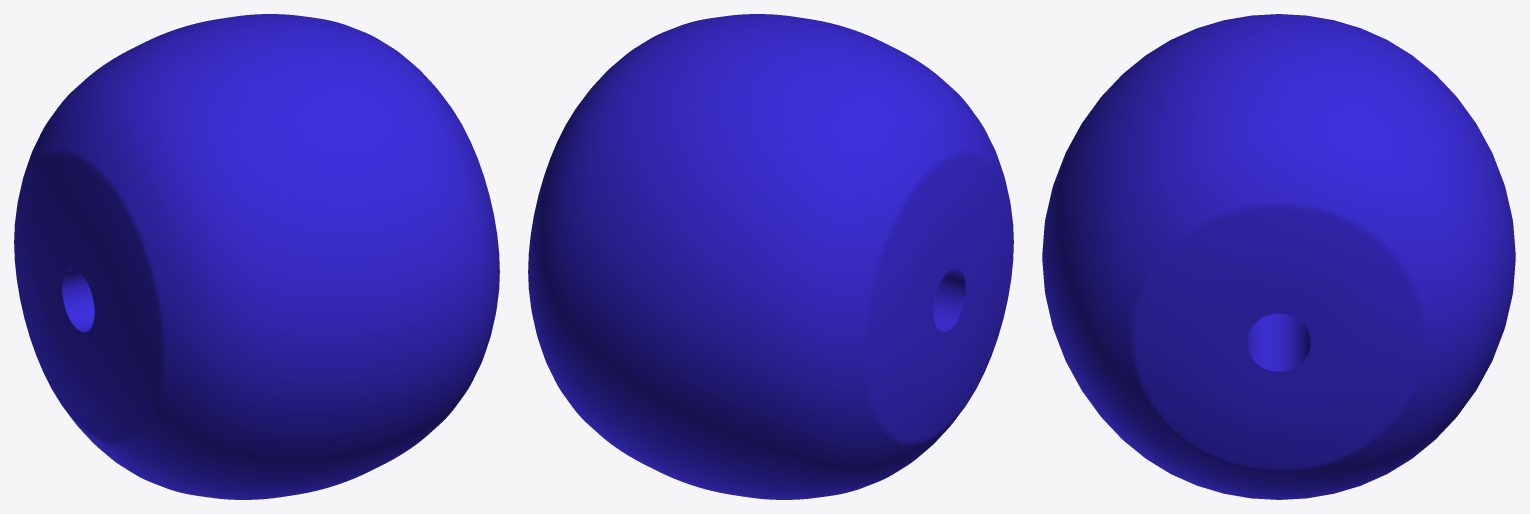
The model's file is 蓝玛瑙.gltf.
3 views of the same model, side by side, from view 1: azimuth 30°, elevation 25°; view 2: azimuth 150°, elevation 25°; view 3: azimuth 270°, elevation 25° (orthographic).
Parts seen in each view (by area): view 1: JewelCAD_2; view 2: JewelCAD_2; view 3: JewelCAD_2.
Part boxes in pixels (<box>): JewelCAD_2: <box>14,14,499,499</box>; JewelCAD_2: <box>528,14,1013,499</box>; JewelCAD_2: <box>1042,14,1515,499</box>.
Bounding box in the file's own units: 0.006 × 0.007 × 0.007.
